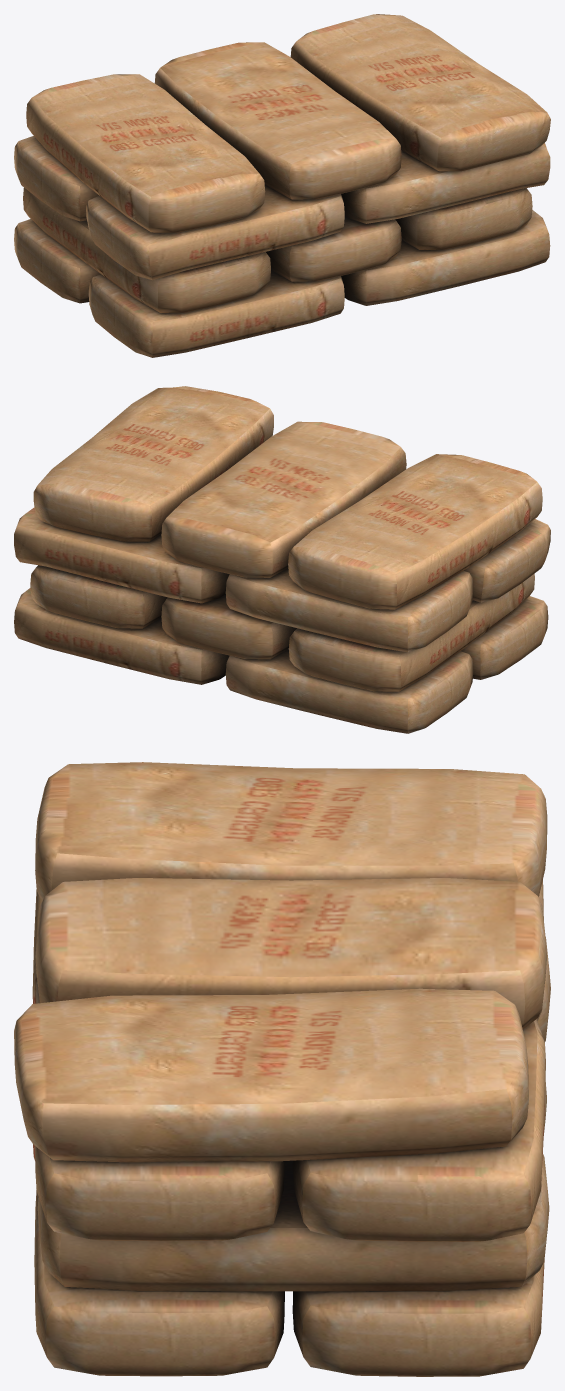
The model's file is concretePallet_singles02.FBX.
3 renders of one model, top to bottom at view 1: azimuth 30°, elevation 25°; view 2: azimuth 150°, elevation 25°; view 3: azimuth 270°, elevation 25°, orthographic. The views are drawn at different scales.
Visible parts, largest first — view 1: concretePallet_singles02; view 2: concretePallet_singles02; view 3: concretePallet_singles02.
Boxes of the visible parts, bbox=[...] form: concretePallet_singles02: bbox=[14, 14, 550, 357]; concretePallet_singles02: bbox=[14, 386, 550, 733]; concretePallet_singles02: bbox=[14, 762, 550, 1376].
Size of the model in its own units: 137 by 51.23 by 87.7.
